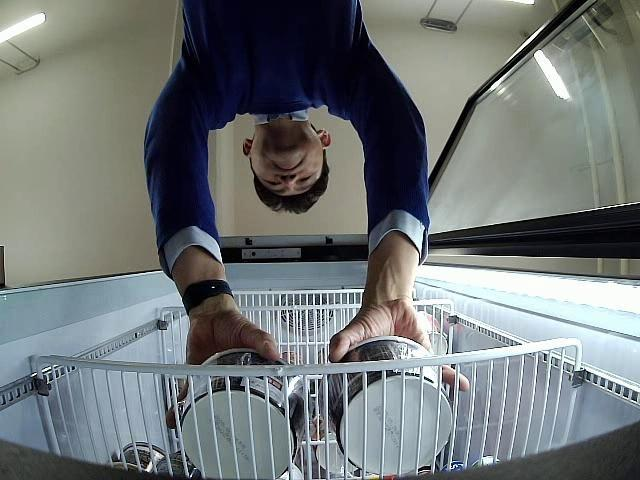07_buldak_L: (318, 336, 454, 476), (180, 349, 312, 480)
